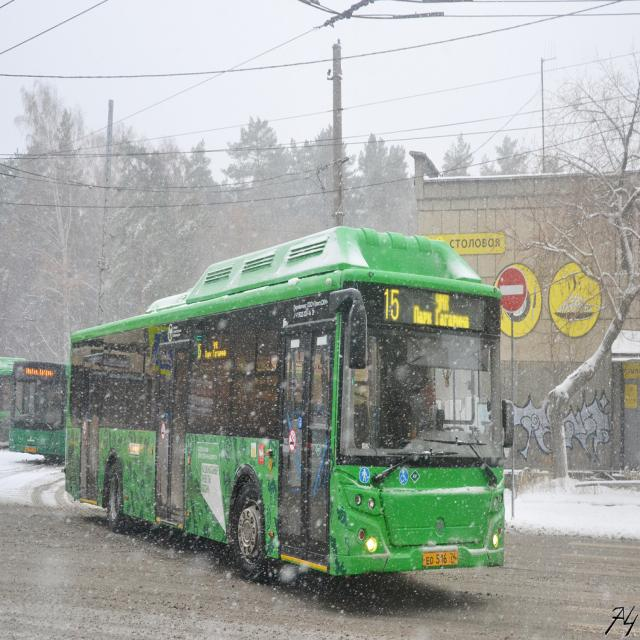number-of-bus: (383, 287, 403, 324), (197, 343, 204, 360)
